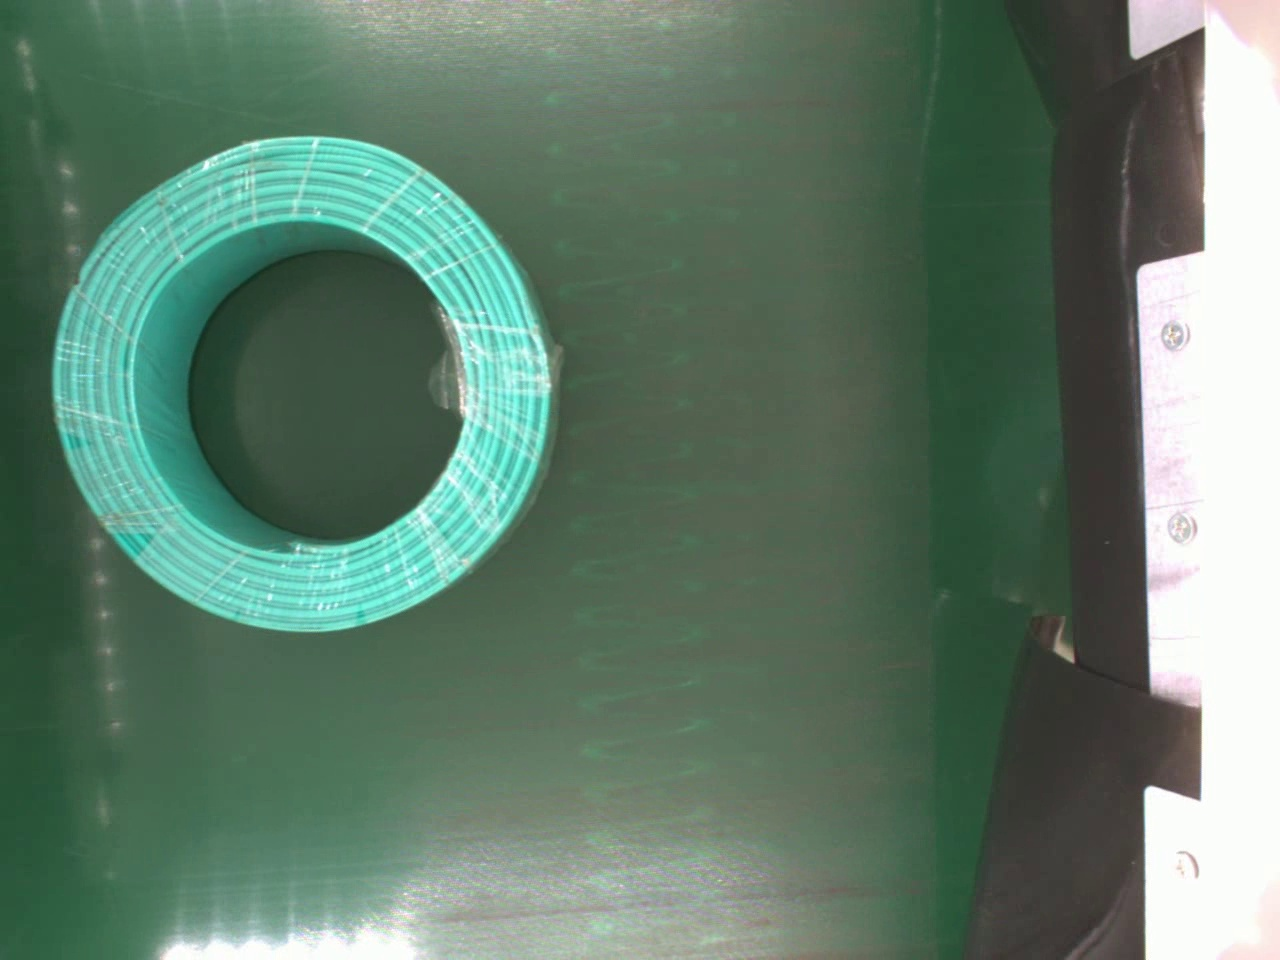green: (50, 128, 556, 634)
